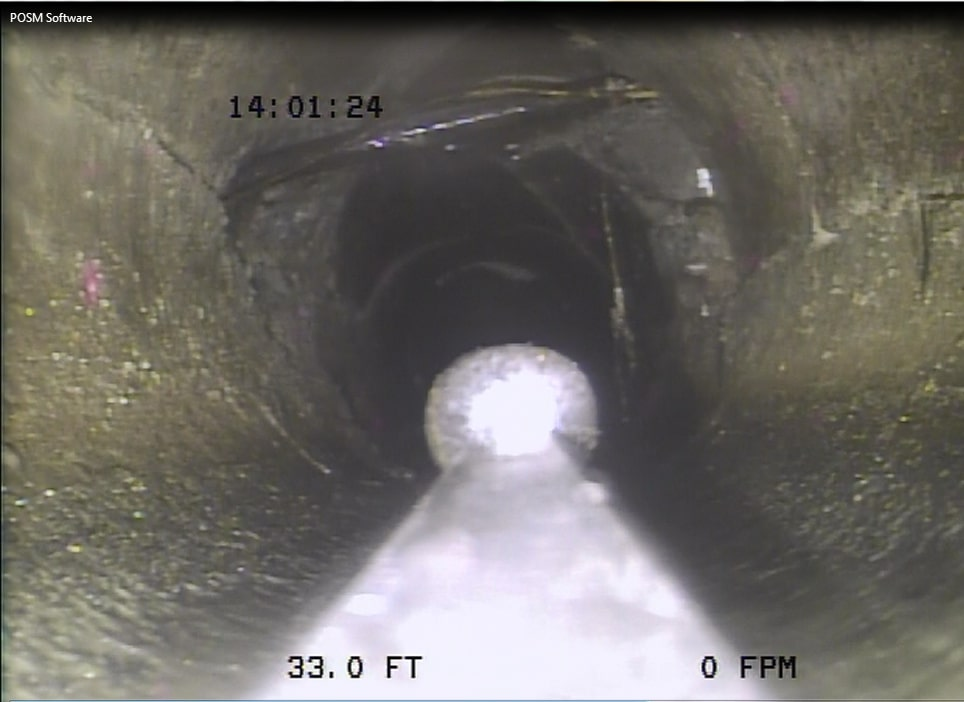cb: (176, 70, 686, 219)
